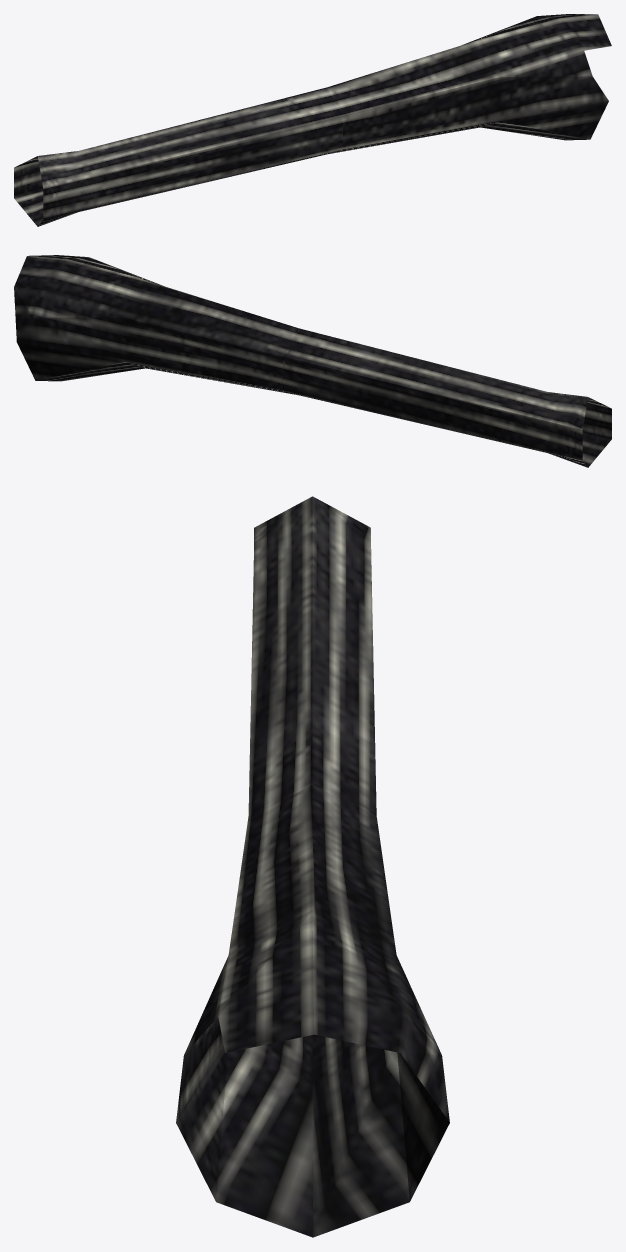
Rendered from Jack_hombro_der.obj.
The picture shows the model from 3 angles, top to bottom: view 1: azimuth 30°, elevation 25°; view 2: azimuth 150°, elevation 25°; view 3: azimuth 270°, elevation 25°; orthographic projection. The views are drawn at different scales.
Parts seen in each view (by area): view 1: rdmobj01.004_rdmobj01.007; view 2: rdmobj01.004_rdmobj01.007; view 3: rdmobj01.004_rdmobj01.007.
Boxes of the visible parts, x1,y1,x2,y2 form: rdmobj01.004_rdmobj01.007: [14, 14, 611, 226]; rdmobj01.004_rdmobj01.007: [14, 255, 611, 467]; rdmobj01.004_rdmobj01.007: [176, 496, 449, 1237].
Size of the model in its own units: 0.4988 by 0.1031 by 0.1038.
Materials: 1 (1 with a texture image).
